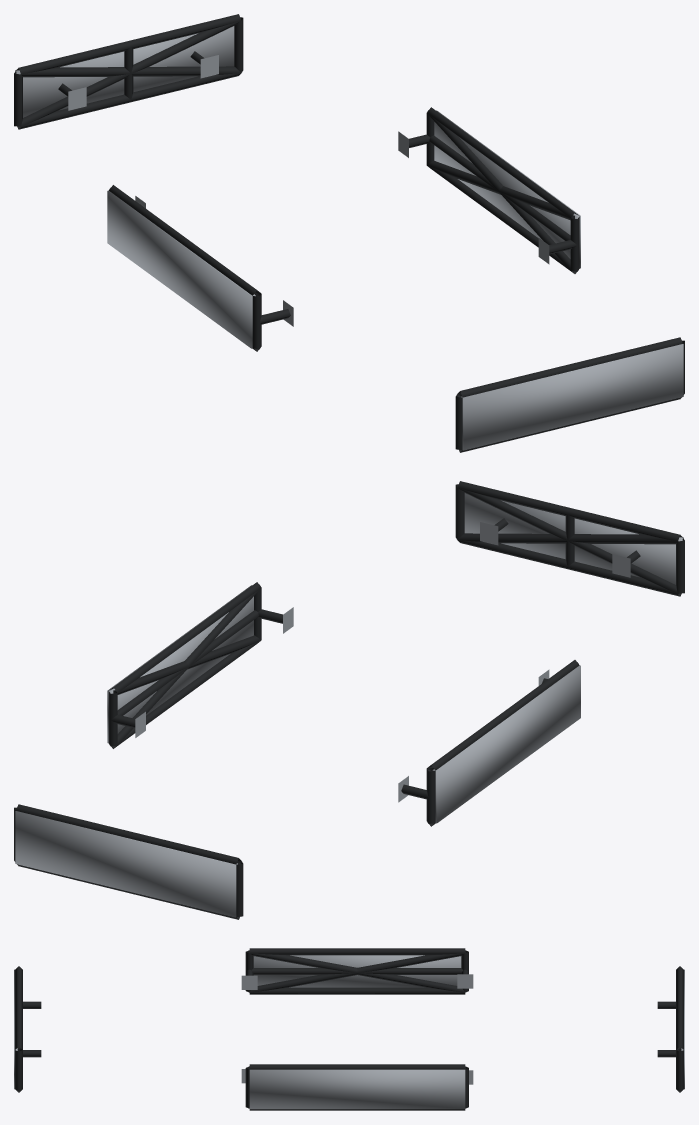
Rendered from kanaya_flecha_protecao.glb.
3 views of the same model, one above another, from view 1: azimuth 30°, elevation 25°; view 2: azimuth 150°, elevation 25°; view 3: azimuth 270°, elevation 25° (orthographic). The views are drawn at different scales.
Parts seen in each view (by area): view 1: Protection_front_Level3_Details, Protection_left_Level3_Details, Protection_rear_Level1_Details, Protection_rear_Level3_Details, Protection_right_Level1_Details, Protection_rear_Level2_Details, Protection_right_Level2_Details, Protection_right_Level3_Details, Protection_front_Level1_Details, Protection_left_Level1_Details; view 2: Protection_rear_Level3_Details, Protection_left_Level3_Details, Protection_front_Level1_Details, Protection_front_Level3_Details, Protection_right_Level1_Details, Protection_front_Level2_Details, Protection_right_Level2_Details, Protection_right_Level3_Details, Protection_rear_Level1_Details, Protection_left_Level1_Details; view 3: Protection_right_Level3_Details, Protection_left_Level1_Details, Protection_left_Level2_Details, Protection_left_Level3_Details, Protection_right_Level1_Details, Protection_rear_Level1_Details, Protection_front_Level1_Details.
Boxes of the visible parts, x1=… form: Protection_front_Level3_Details: x1=461, y1=344, x2=683, y2=450; Protection_left_Level3_Details: x1=107, y1=190, x2=255, y2=348; Protection_rear_Level1_Details: x1=14, y1=14, x2=243, y2=129; Protection_rear_Level3_Details: x1=15, y1=26, x2=234, y2=117; Protection_right_Level1_Details: x1=398, y1=107, x2=579, y2=273; Protection_rear_Level2_Details: x1=16, y1=21, x2=241, y2=128; Protection_right_Level2_Details: x1=427, y1=113, x2=578, y2=273; Protection_right_Level3_Details: x1=434, y1=110, x2=580, y2=268; Protection_front_Level1_Details: x1=455, y1=337, x2=684, y2=452; Protection_left_Level1_Details: x1=109, y1=185, x2=293, y2=351; Protection_rear_Level3_Details: x1=15, y1=811, x2=237, y2=917; Protection_left_Level3_Details: x1=432, y1=665, x2=580, y2=823; Protection_front_Level1_Details: x1=455, y1=481, x2=684, y2=596; Protection_front_Level3_Details: x1=464, y1=493, x2=683, y2=584; Protection_right_Level1_Details: x1=108, y1=582, x2=293, y2=748; Protection_front_Level2_Details: x1=457, y1=488, x2=682, y2=595; Protection_right_Level2_Details: x1=109, y1=588, x2=261, y2=748; Protection_right_Level3_Details: x1=107, y1=585, x2=253, y2=743; Protection_rear_Level1_Details: x1=14, y1=804, x2=243, y2=919; Protection_left_Level1_Details: x1=398, y1=660, x2=579, y2=826; Protection_right_Level3_Details: x1=249, y1=1069, x2=465, y2=1109; Protection_left_Level1_Details: x1=241, y1=948, x2=473, y2=994; Protection_left_Level2_Details: x1=249, y1=951, x2=465, y2=992; Protection_left_Level3_Details: x1=253, y1=955, x2=461, y2=987; Protection_right_Level1_Details: x1=241, y1=1064, x2=473, y2=1110; Protection_rear_Level1_Details: x1=657, y1=966, x2=683, y2=1092; Protection_front_Level1_Details: x1=15, y1=966, x2=41, y2=1092.
Bounding box in the file's own units: 1.97 × 0.354 × 4.64.
Materials: 1 (1 with a texture image).
